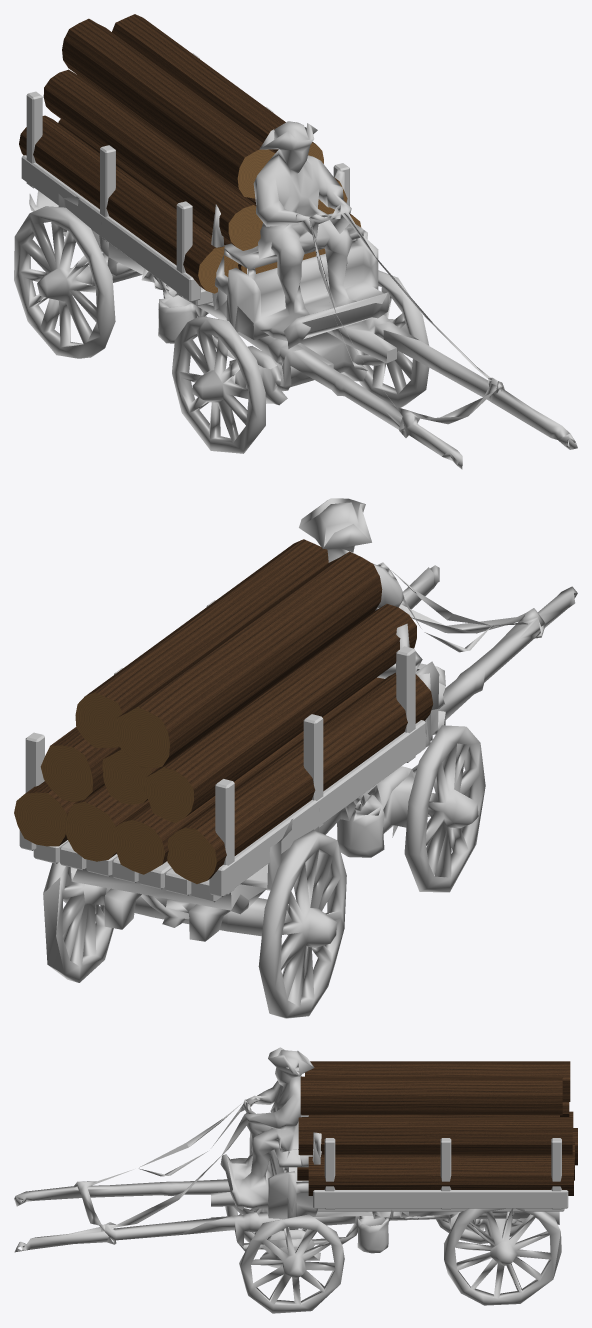
File: Forestry_Wagon_v02.fbx
3 views of the same model, one above another, from view 1: azimuth 30°, elevation 25°; view 2: azimuth 150°, elevation 25°; view 3: azimuth 270°, elevation 25° (orthographic). The views are drawn at different scales.
Parts seen in each view (by area): view 1: Carriage_Body, Carriage_Forecarriage, Cargo_Log_Bark_2_0, Carriage_Rear_Left, Cargo_Log_Bark_1_0, Carriage_Front_Left, Cargo_Log_Bark_0_0, Cargo_Log_Bark_2_1, Forestry_Bed_Rail, Carriage_Front_Right, Cargo_Log_Endgrain_1_0, Forestry_Stake (+5 smaller); view 2: Cargo_Log_Bark_2_0, Carriage_Body, Cargo_Log_Bark_1_0, Carriage_Rear_Left, Cargo_Log_Bark_0_0, Carriage_Front_Left, Cargo_Log_Bark_2_1, Carriage_Forecarriage, Forestry_Bed_Rail, Carriage_Rear_Right, Cargo_Log_Endgrain_2_0, Cargo_Log_Endgrain_0_2 (+14 smaller); view 3: Carriage_Body, Cargo_Log_Bark_2_1, Cargo_Log_Bark_1_2, Cargo_Log_Bark_0_3, Carriage_Forecarriage, Carriage_Rear_Right, Carriage_Front_Right, Forestry_Bed_Rail.001, Cargo_Log_Bark_2_0, Forestry_Bed_Plank_06, Cargo_Log_Bark_0_2, Forestry_Stake.004 (+4 smaller).
Part boxes in pixels (x1,y1,x2,y2): Carriage_Body: (29,121,418,385); Carriage_Forecarriage: (230,257,577,469); Cargo_Log_Bark_2_0: (62,18,275,196); Carriage_Rear_Left: (14,194,117,358); Cargo_Log_Bark_1_0: (43,69,256,246); Carriage_Front_Left: (172,289,265,453); Cargo_Log_Bark_0_0: (19,115,224,290); Cargo_Log_Bark_2_1: (112,14,315,152); Forestry_Bed_Rail: (21,155,200,301); Carriage_Front_Right: (359,270,429,407); Cargo_Log_Endgrain_1_0: (228,205,262,250); Forestry_Stake: (176,201,192,297); Cargo_Log_Bark_2_0: (119,551,382,765); Carriage_Body: (43,498,445,974); Cargo_Log_Bark_1_0: (147,604,416,816); Carriage_Rear_Left: (248,808,346,1018); Cargo_Log_Bark_0_0: (177,672,433,879); Carriage_Front_Left: (404,708,485,892); Cargo_Log_Bark_2_1: (86,539,328,713); Carriage_Forecarriage: (368,565,577,837); Forestry_Bed_Rail: (209,720,425,896); Carriage_Rear_Right: (43,862,113,982); Cargo_Log_Endgrain_2_0: (117,707,170,768); Cargo_Log_Endgrain_0_2: (63,802,116,861); Carriage_Body: (178,1047,561,1277); Cargo_Log_Bark_2_1: (300,1076,562,1115); Cargo_Log_Bark_1_2: (298,1117,572,1155); Cargo_Log_Bark_0_3: (308,1156,573,1195); Carriage_Forecarriage: (14,1119,319,1268); Carriage_Rear_Right: (444,1208,560,1305); Carriage_Front_Right: (239,1194,344,1313); Forestry_Bed_Rail.001: (313,1190,568,1208); Cargo_Log_Bark_2_0: (305,1061,570,1101); Forestry_Bed_Plank_06: (316,1208,564,1211); Cargo_Log_Bark_0_2: (297,1142,574,1180); Forestry_Stake.004: (440,1138,451,1209).
Size of the model in its own units: 199 by 240 by 535.
